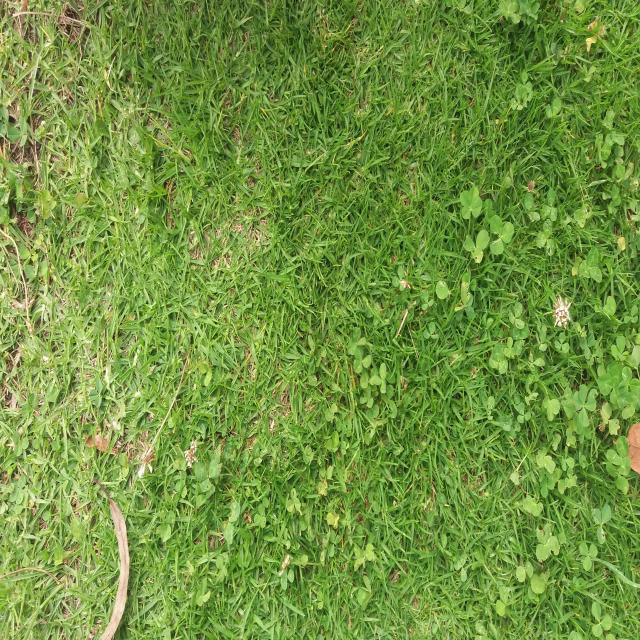Four Leaf Clover: (573, 384, 597, 427), (460, 186, 482, 219)
